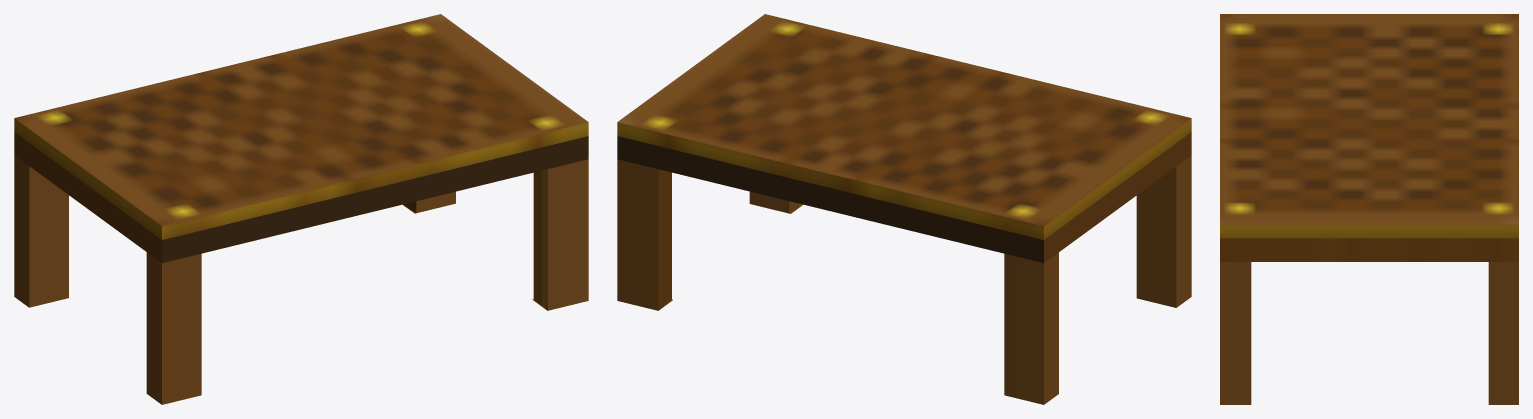
File: table_890x00.obj
The picture shows the model from 3 angles, left to right: view 1: azimuth 30°, elevation 25°; view 2: azimuth 150°, elevation 25°; view 3: azimuth 270°, elevation 25°; orthographic projection.
Parts seen in each view (by area): view 1: Table_890x0; view 2: Table_890x0; view 3: Table_890x0.
Part boxes in pixels (<box>): Table_890x0: <box>14,14,588,404</box>; Table_890x0: <box>617,14,1191,404</box>; Table_890x0: <box>1220,14,1518,404</box>.
Size of the model in its own units: 5 by 2 by 3.
